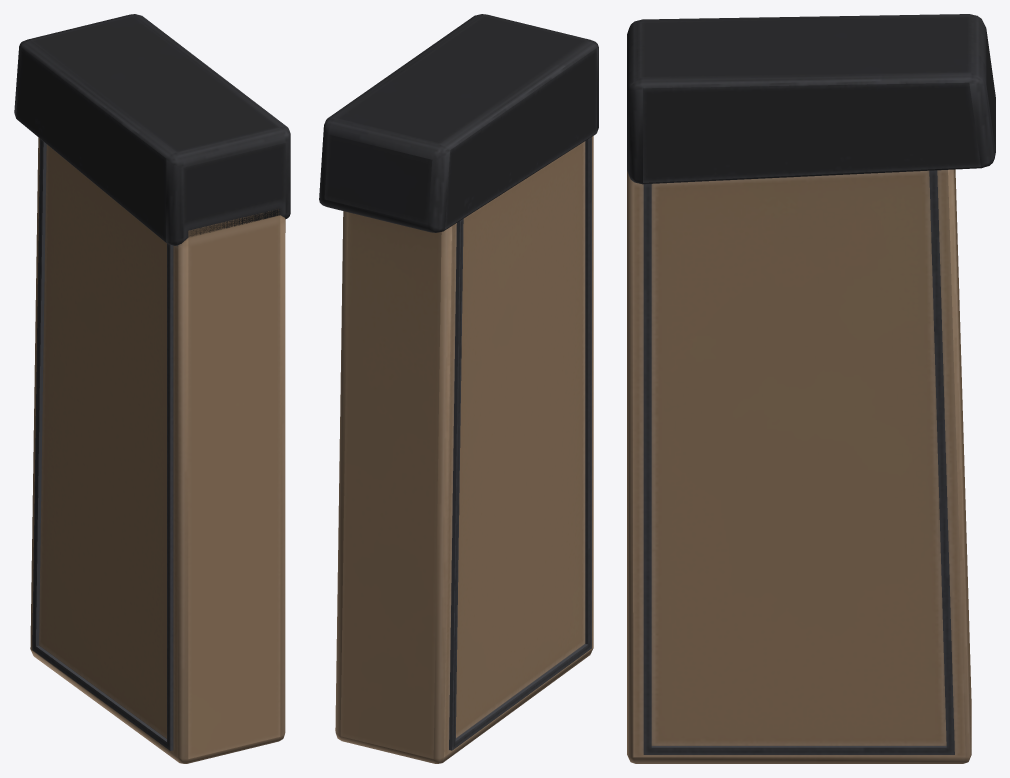
Rendered from AT_AG203Mag.fbx.
3 views of the same model, side by side, from view 1: azimuth 30°, elevation 25°; view 2: azimuth 150°, elevation 25°; view 3: azimuth 270°, elevation 25° (orthographic). The views are drawn at different scales.
Parts seen in each view (by area): view 1: AT_AG203Mag_export; view 2: AT_AG203Mag_export; view 3: AT_AG203Mag_export.
Boxes of the visible parts, x1,y1,x2,y2 form: AT_AG203Mag_export: (14, 14, 290, 763); AT_AG203Mag_export: (319, 14, 598, 763); AT_AG203Mag_export: (627, 14, 995, 763).
Bounding box in the file's own units: 0.024 × 0.0555 × 0.1153.
